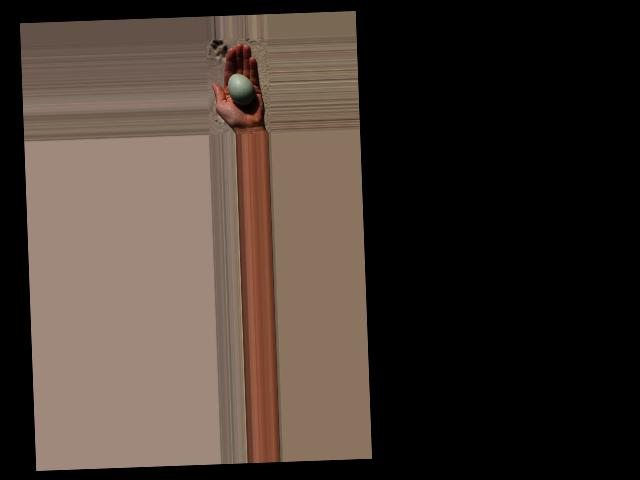egg: (228, 73, 256, 105)
